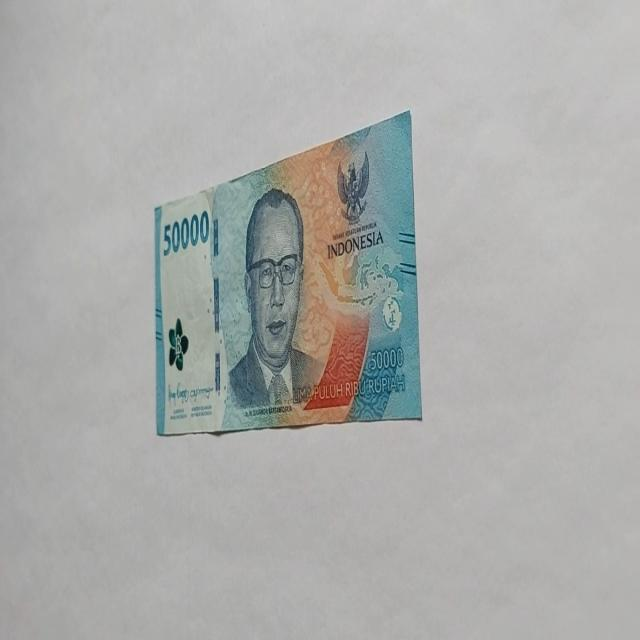lima puluh ribu rupiah: (153, 109, 422, 438), (224, 185, 326, 418)
